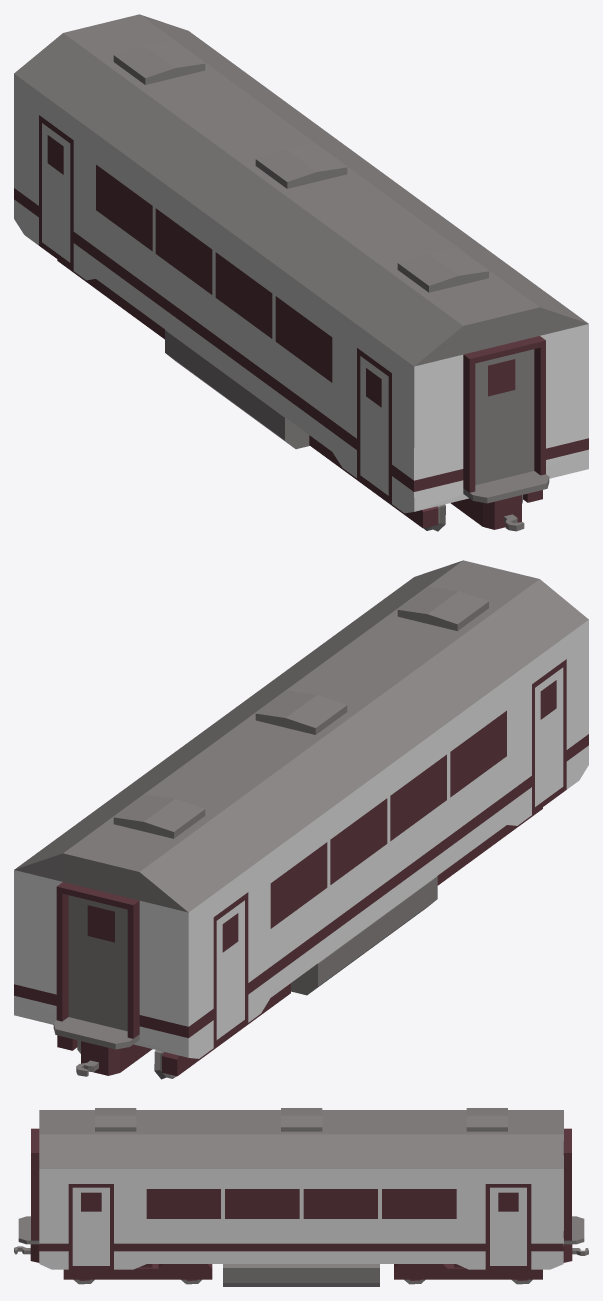
Rendered from train-passenger-wagon.fbx.
3 views of the same model, one above another, from view 1: azimuth 30°, elevation 25°; view 2: azimuth 150°, elevation 25°; view 3: azimuth 270°, elevation 25° (orthographic). The views are drawn at different scales.
Parts seen in each view (by area): view 1: train-passenger-wagon-base, train-passenger-wagon-wheel-frame_F, train-passenger-wagon-wheel-frame_B; view 2: train-passenger-wagon-base, train-passenger-wagon-wheel-frame_B, train-passenger-wagon-wheel-frame_F; view 3: train-passenger-wagon-base, train-passenger-wagon-wheel-frame_F, train-passenger-wagon-wheel-frame_B.
Part boxes in pixels (left/top/right/bottom): train-passenger-wagon-base: left=14, top=14, right=588, bottom=531; train-passenger-wagon-wheel-frame_F: left=309, top=435, right=542, bottom=528; train-passenger-wagon-wheel-frame_B: left=57, top=259, right=164, bottom=339; train-passenger-wagon-base: left=14, top=560, right=588, bottom=1076; train-passenger-wagon-wheel-frame_B: left=57, top=983, right=290, bottom=1076; train-passenger-wagon-wheel-frame_F: left=437, top=807, right=542, bottom=885; train-passenger-wagon-base: left=14, top=1108, right=588, bottom=1286; train-passenger-wagon-wheel-frame_F: left=63, top=1264, right=212, bottom=1279; train-passenger-wagon-wheel-frame_B: left=394, top=1264, right=542, bottom=1279.
Size of the model in its own units: 3.2 by 4.17 by 13.92.
